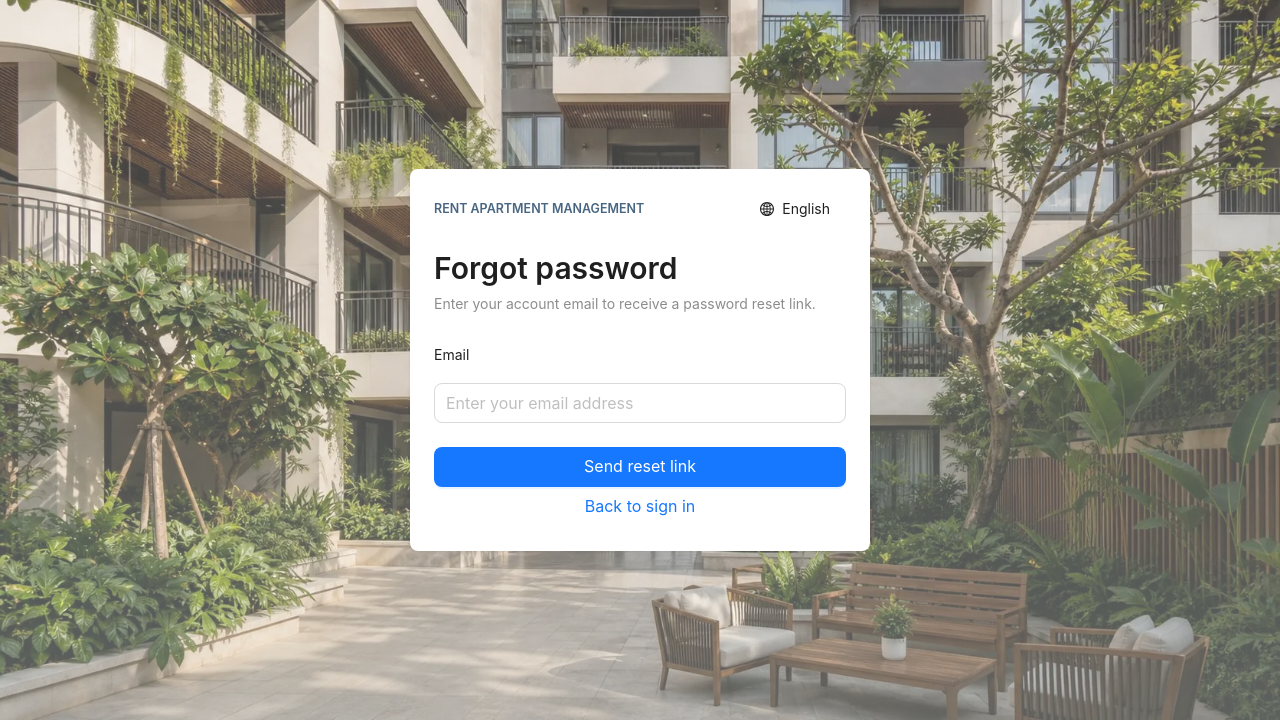
ForgotPasswordPage › submits an email and displays the generic response
The width and height of the screenshot is (1280, 720).
Type "tenant@example.com" into the field labelled "Email" at (632, 403), box [446,391,818,415]
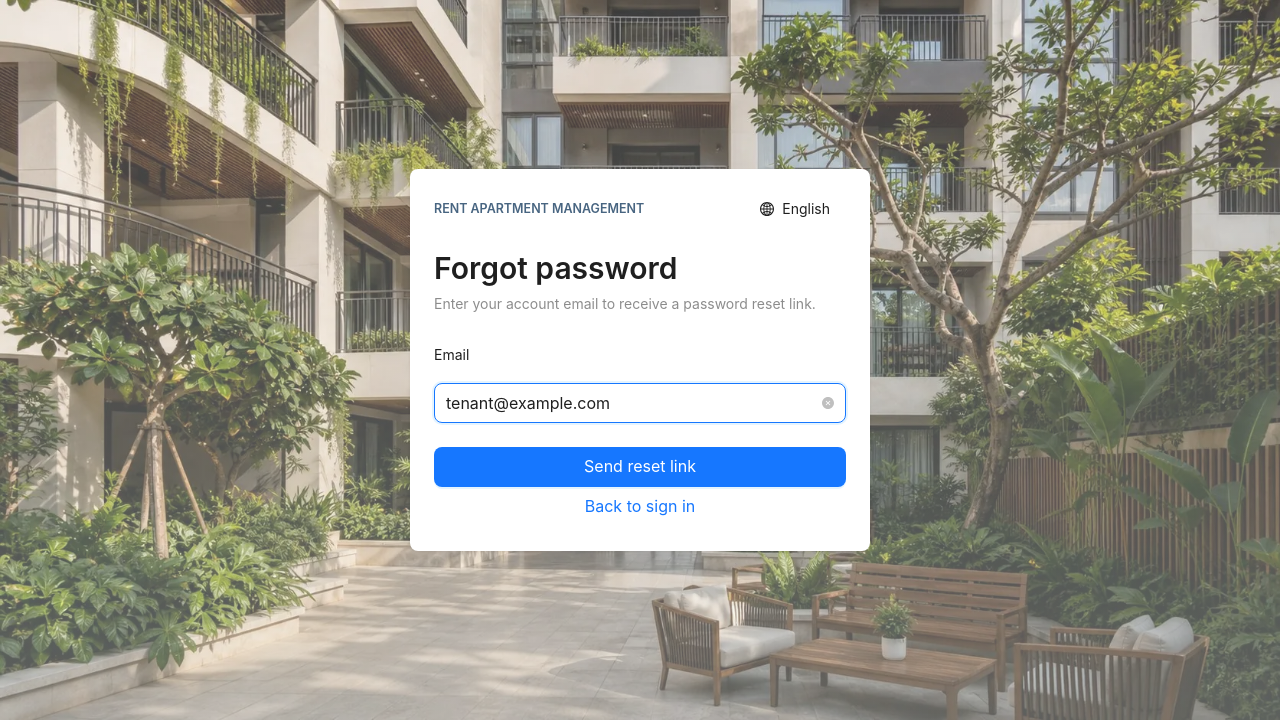
Click the button "Send reset link" at (640, 467), box [434,447,846,487]
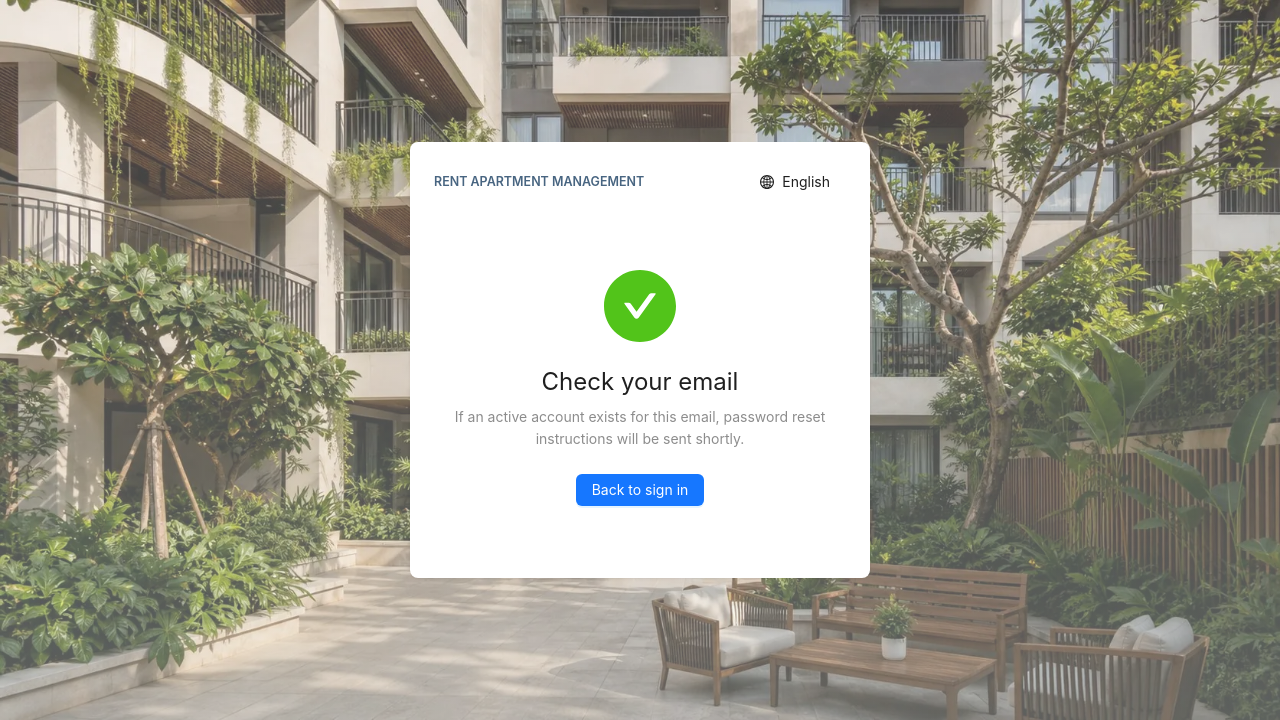
Result: the text "Check your email" is shown at [542,367,738,396]
Result: the text "If an active account exists for this email, password reset instructions will be sent shortly." is shown at [455,408,825,447]
